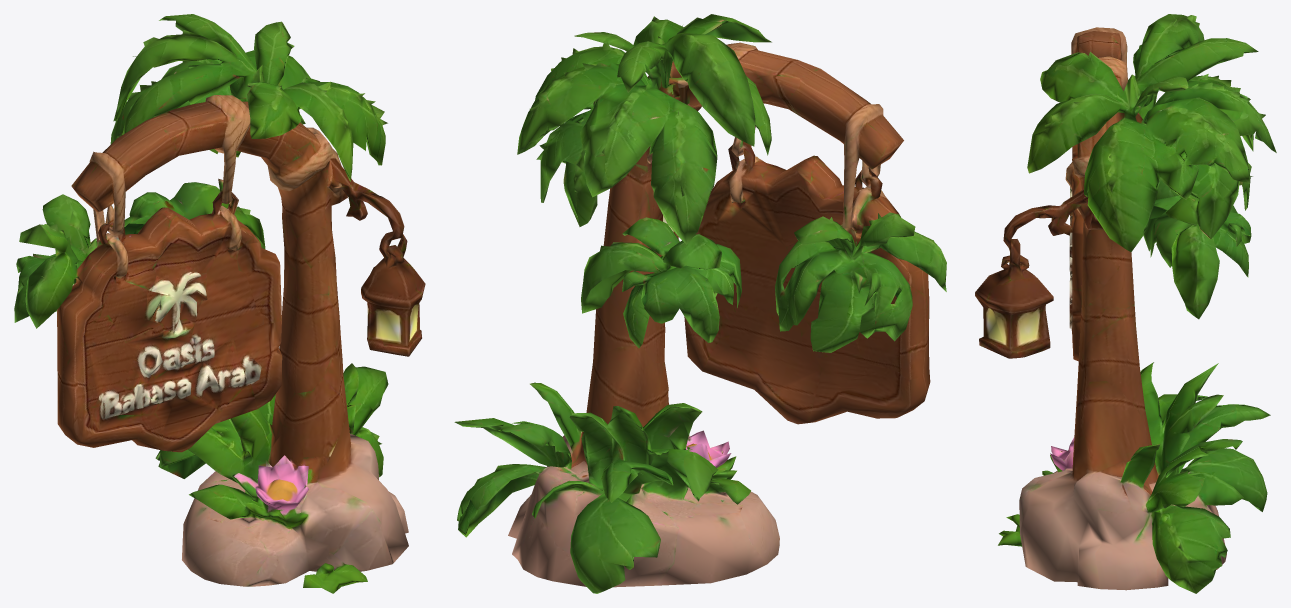
File: froggy-lantern-oasis-a.glb
The picture shows the model from 3 angles, left to right: view 1: azimuth 30°, elevation 25°; view 2: azimuth 150°, elevation 25°; view 3: azimuth 270°, elevation 25°; orthographic projection. The views are drawn at different scales.
Size of the model in its own units: 1.57 by 1.9 by 1.06.
1 material, 1 textured.
